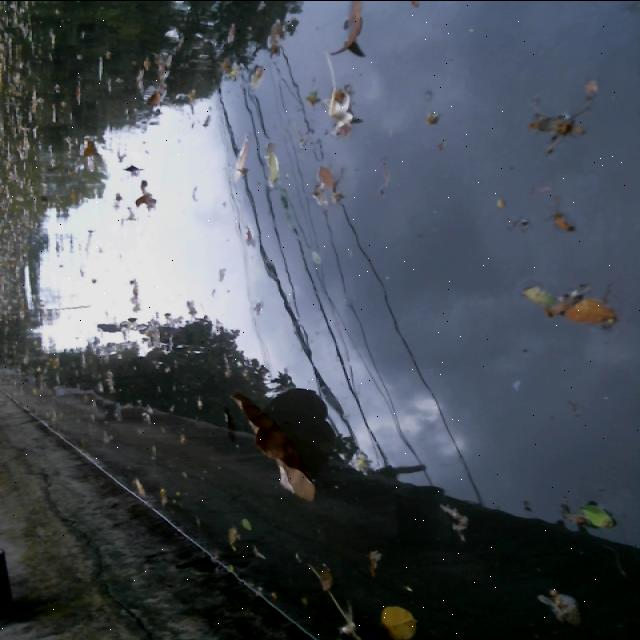Big-leaf: (222, 387, 322, 505)
Small-leaf: (325, 0, 369, 57), (323, 81, 360, 142), (561, 291, 617, 331), (539, 580, 584, 627), (374, 602, 425, 640), (526, 113, 588, 141), (574, 495, 617, 535), (230, 134, 252, 182), (264, 17, 288, 58), (517, 283, 556, 308), (261, 146, 284, 186), (128, 182, 156, 212), (549, 208, 578, 236), (311, 162, 337, 189), (316, 561, 336, 595), (245, 63, 266, 91), (182, 83, 202, 112), (125, 475, 149, 498), (223, 522, 242, 551), (79, 135, 99, 160), (225, 18, 240, 45), (234, 512, 252, 531), (119, 159, 138, 176), (155, 484, 169, 507)
